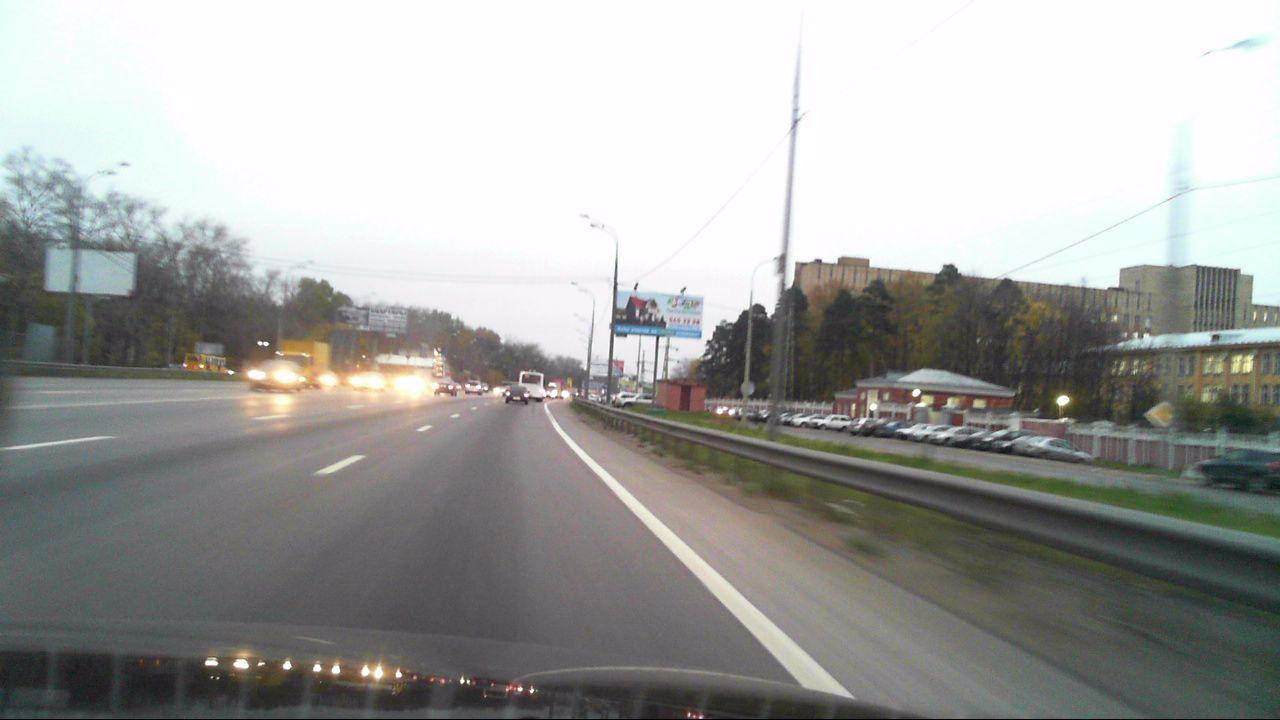2_1: (1148, 401, 1176, 428)
